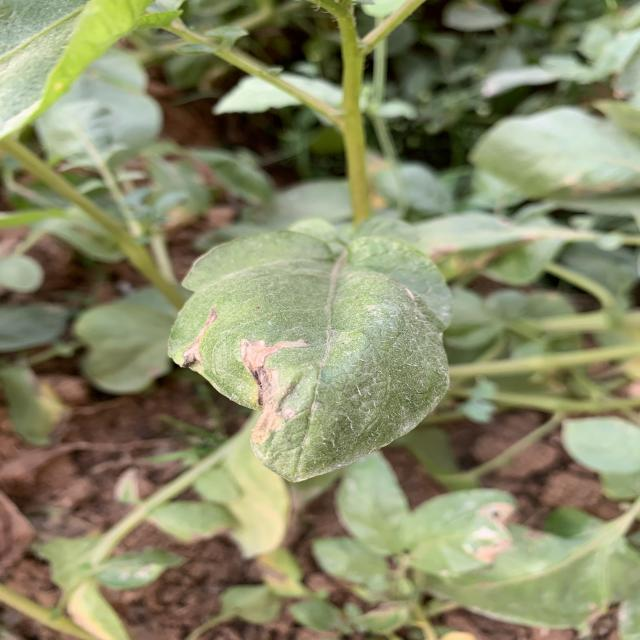lateblight: (240, 339, 310, 444), (182, 308, 218, 369)
